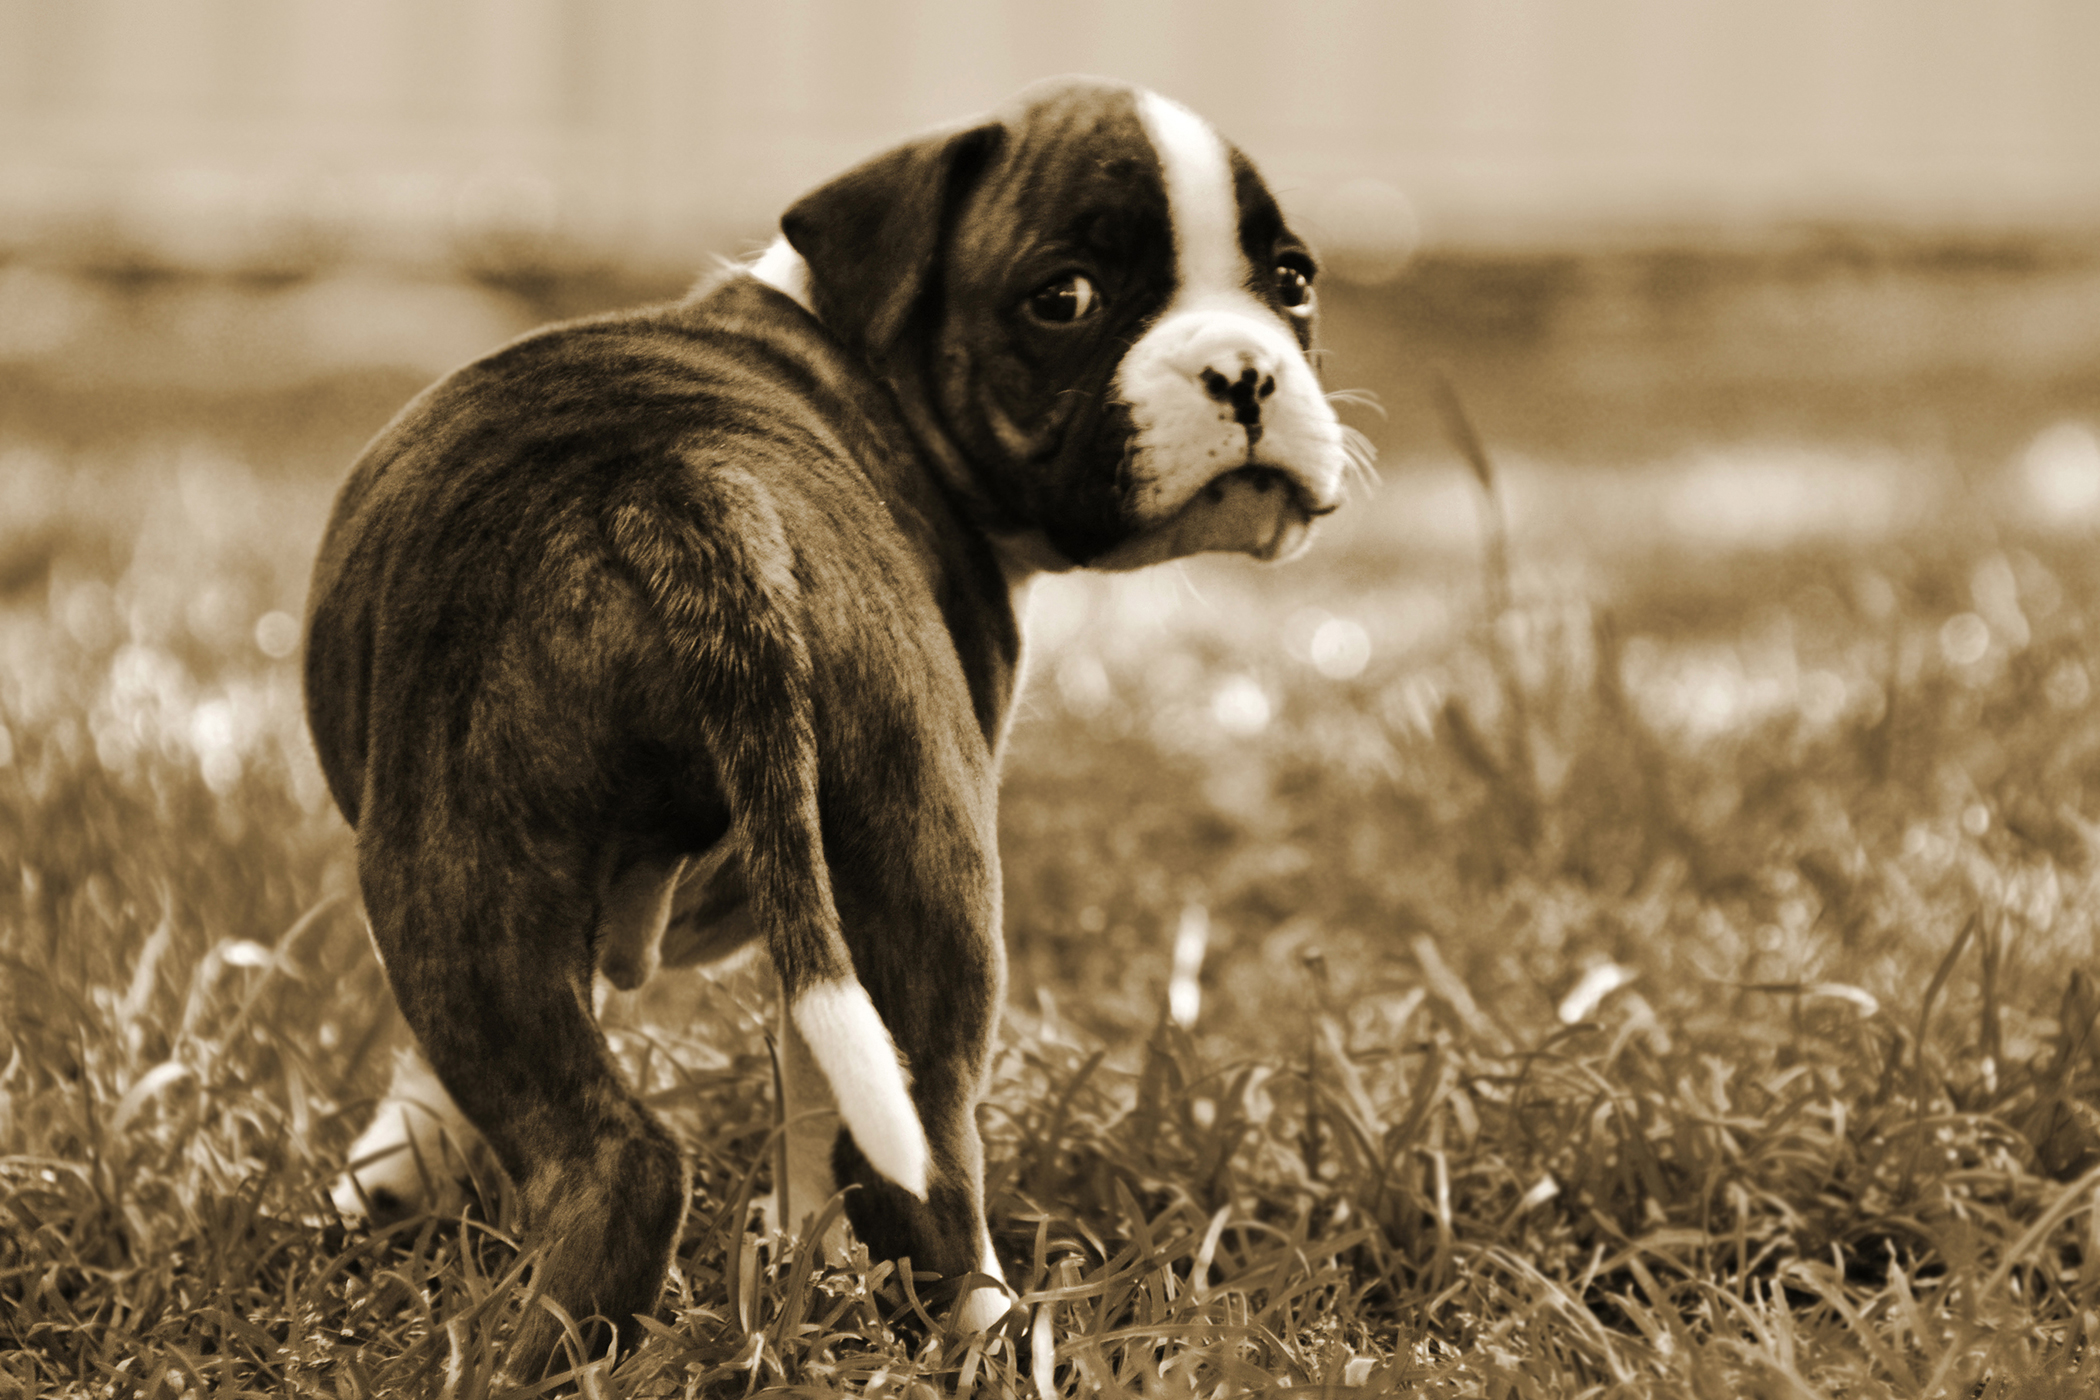tail: (587, 437, 966, 1211)
